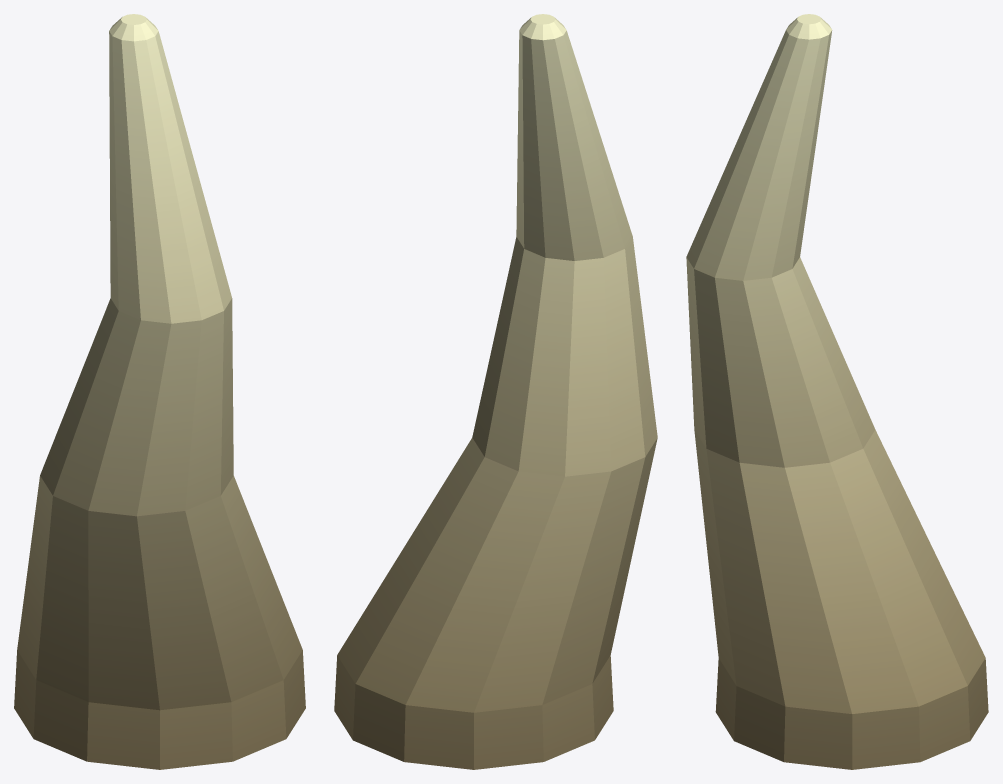
File: OldPillar_03.fbx
3 views of the same model, side by side, from view 1: azimuth 30°, elevation 25°; view 2: azimuth 150°, elevation 25°; view 3: azimuth 270°, elevation 25° (orthographic). The views are drawn at different scales.
Parts seen in each view (by area): view 1: OldPillar_03_Mesh; view 2: OldPillar_03_Mesh; view 3: OldPillar_03_Mesh.
Boxes of the visible parts, x1,y1,x2,y2 form: OldPillar_03_Mesh: [14, 14, 305, 769]; OldPillar_03_Mesh: [334, 14, 657, 769]; OldPillar_03_Mesh: [686, 14, 988, 769].
Bounding box in the file's own units: 298 × 758 × 310.
